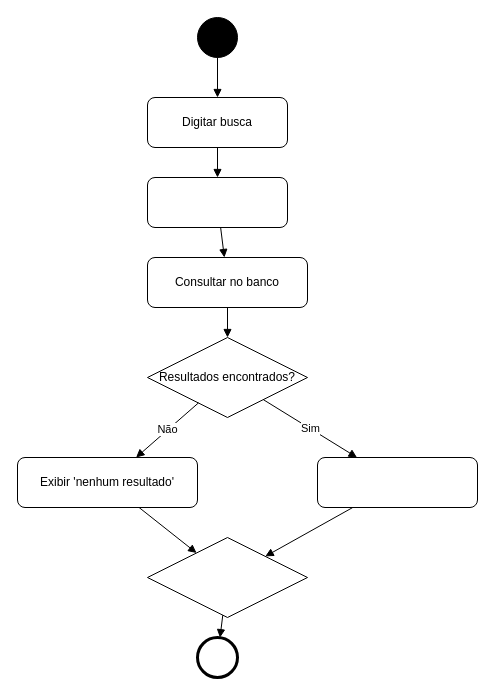
The diagram is 495 pixels wide and 696 high, and some of its shapes have lost their labels. Here are the shapes that lost their labels. From the top down, the centre of each, then its label:
At point (217, 202): "Enviar busca".
At point (397, 482): "Exibir resultados".
